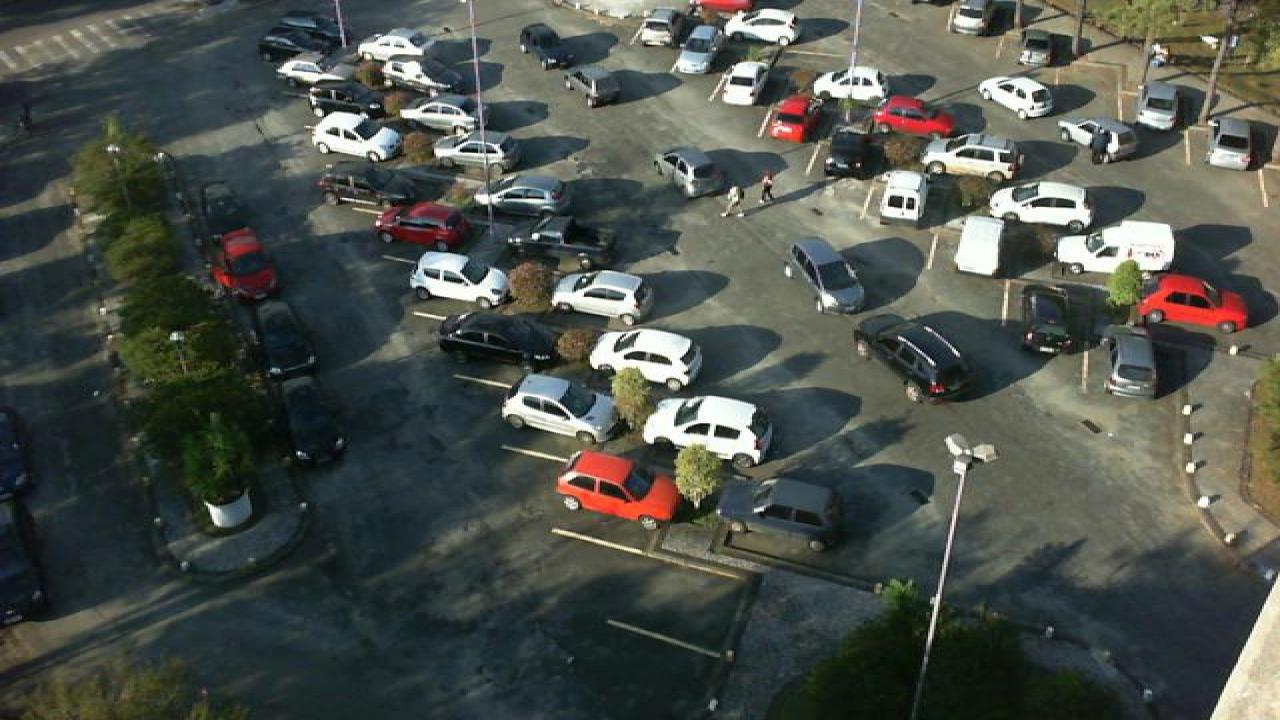Car: (850, 315, 976, 404), (554, 450, 684, 530), (638, 395, 778, 467), (718, 475, 846, 551), (436, 307, 568, 374), (496, 373, 616, 444), (778, 234, 870, 317), (586, 326, 700, 391), (240, 298, 314, 383), (278, 379, 348, 467), (404, 251, 508, 308), (1130, 285, 1248, 335), (552, 270, 652, 327), (984, 180, 1098, 230), (208, 226, 278, 303), (372, 202, 474, 254), (508, 214, 618, 260), (310, 112, 404, 165), (314, 161, 414, 210), (1014, 282, 1080, 356), (922, 133, 1020, 182), (1098, 324, 1162, 399), (472, 174, 578, 218), (1058, 116, 1142, 165), (652, 146, 730, 198), (978, 74, 1058, 120), (874, 94, 952, 140), (874, 169, 934, 228), (760, 93, 828, 144), (430, 138, 524, 174), (712, 61, 782, 108), (810, 65, 888, 106), (816, 129, 880, 178), (274, 58, 362, 93), (396, 101, 478, 137), (302, 84, 388, 118), (352, 56, 432, 92), (724, 8, 800, 45), (1206, 117, 1256, 172), (674, 25, 728, 75), (258, 26, 328, 64), (562, 66, 624, 108), (1132, 81, 1180, 131), (518, 22, 568, 68), (358, 33, 440, 61), (628, 8, 680, 48), (946, 0, 996, 36), (1016, 28, 1058, 69)
